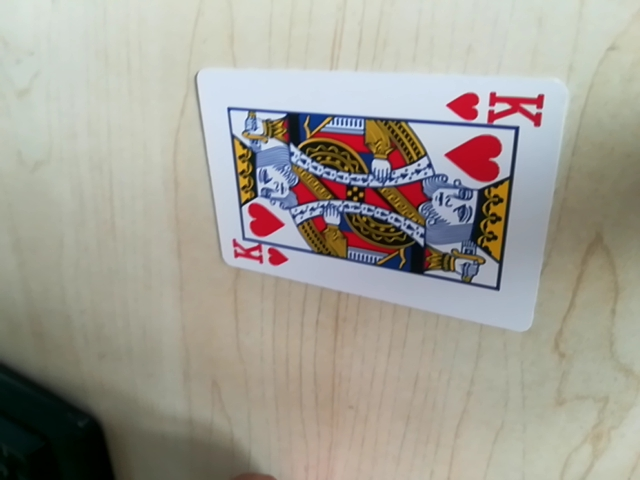hx k: (449, 85, 551, 130), (228, 238, 289, 270)
